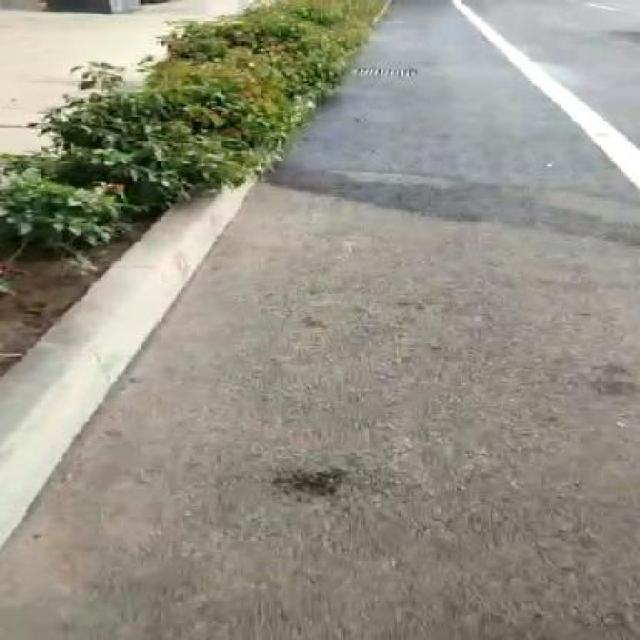Manhole: (348, 66, 423, 76)
